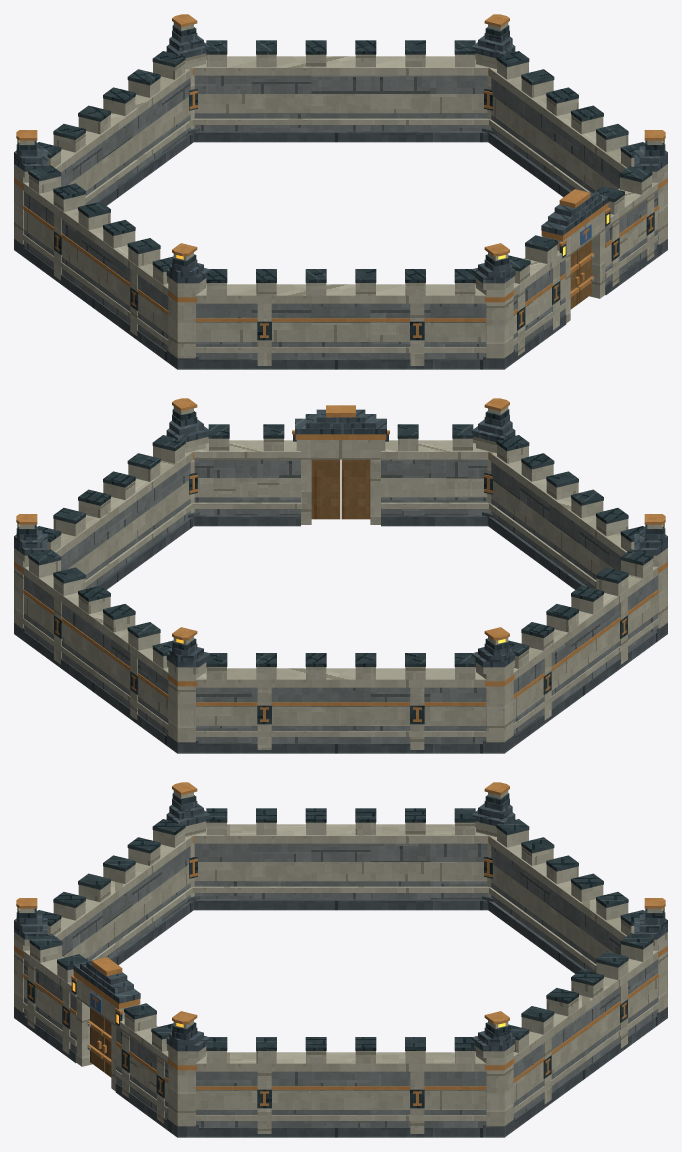
The model's file is dwarf_walls_level_3_hex_v1.glb.
3 renders of one model, top to bottom at view 1: azimuth 30°, elevation 25°; view 2: azimuth 150°, elevation 25°; view 3: azimuth 270°, elevation 25°, orthographic.
Parts seen in each view (by area): view 1: Dwarf_Walls_Level_3_Hex_V1_Architecture; view 2: Dwarf_Walls_Level_3_Hex_V1_Architecture; view 3: Dwarf_Walls_Level_3_Hex_V1_Architecture.
Boxes of the visible parts, bbox=[...] form: Dwarf_Walls_Level_3_Hex_V1_Architecture: bbox=[14, 14, 667, 369]; Dwarf_Walls_Level_3_Hex_V1_Architecture: bbox=[14, 398, 667, 753]; Dwarf_Walls_Level_3_Hex_V1_Architecture: bbox=[14, 782, 667, 1137].
Bounding box in the file's own units: 1.71 × 0.386 × 1.97.
1 material, 1 textured.
